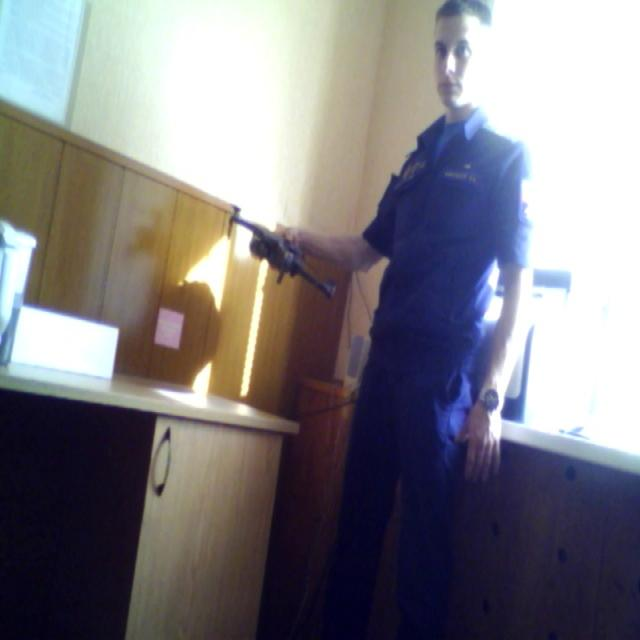drone: (219, 189, 346, 307)
